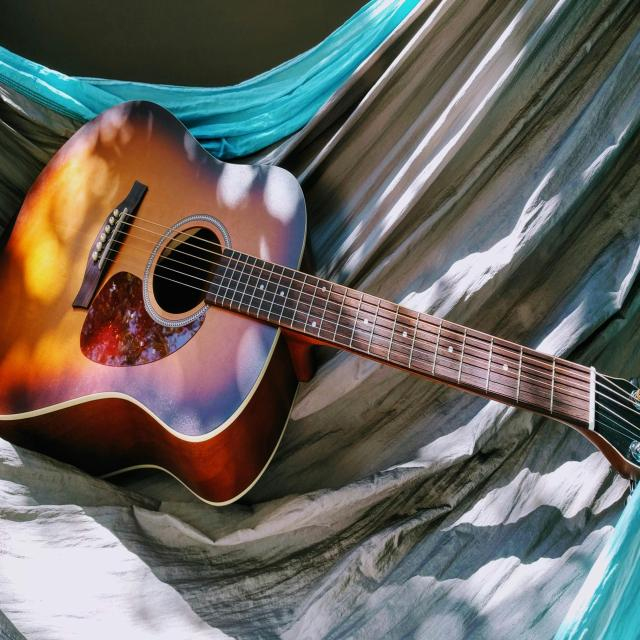guitar: (0, 101, 640, 505)
